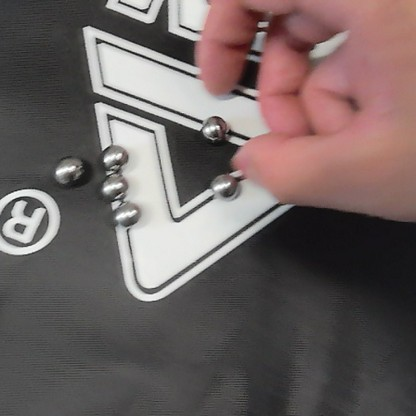ironball: (52, 157, 84, 184), (99, 144, 129, 171), (210, 172, 238, 199), (201, 114, 226, 140), (101, 172, 125, 198), (115, 202, 139, 227)
